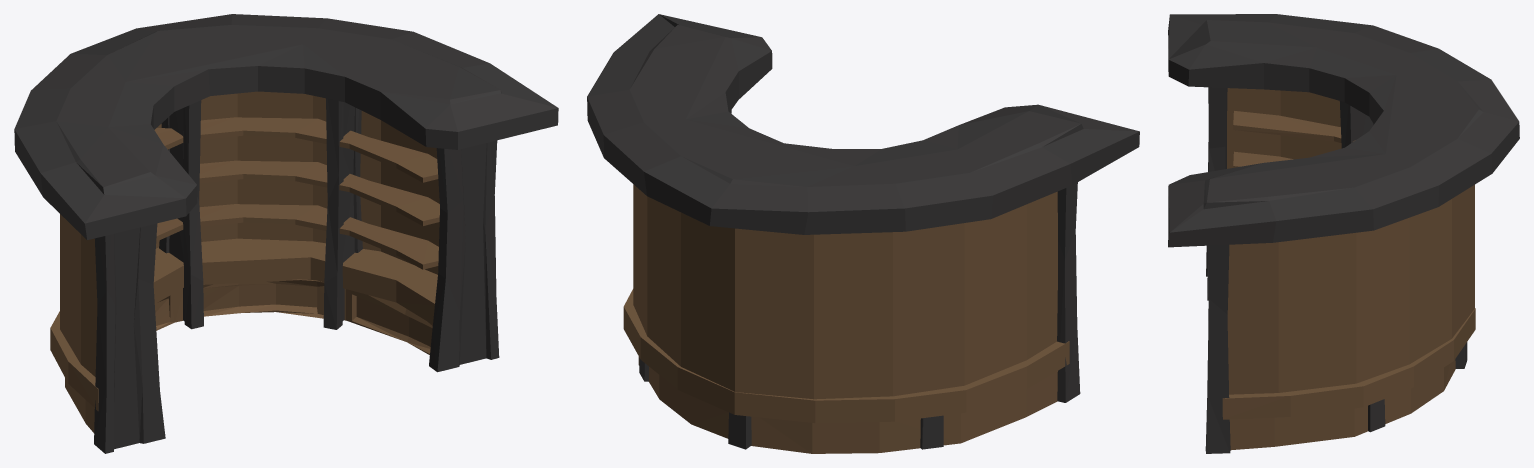
File: Filler_003.fbx
3 views of the same model, side by side, from view 1: azimuth 30°, elevation 25°; view 2: azimuth 150°, elevation 25°; view 3: azimuth 270°, elevation 25° (orthographic). The views are drawn at different scales.
Visible parts, largest first — view 1: Filler_004; view 2: Filler_004; view 3: Filler_004.
Part boxes in pixels (x1,y1,x2,y2): Filler_004: [14, 14, 558, 453]; Filler_004: [587, 14, 1139, 453]; Filler_004: [1168, 14, 1519, 453].
Bounding box in the file's own units: 5.68 × 3.08 × 3.87.
